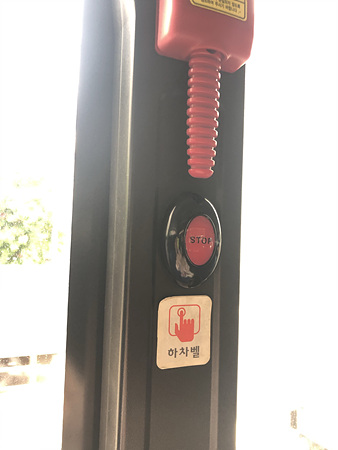bell: (163, 193, 221, 290)
